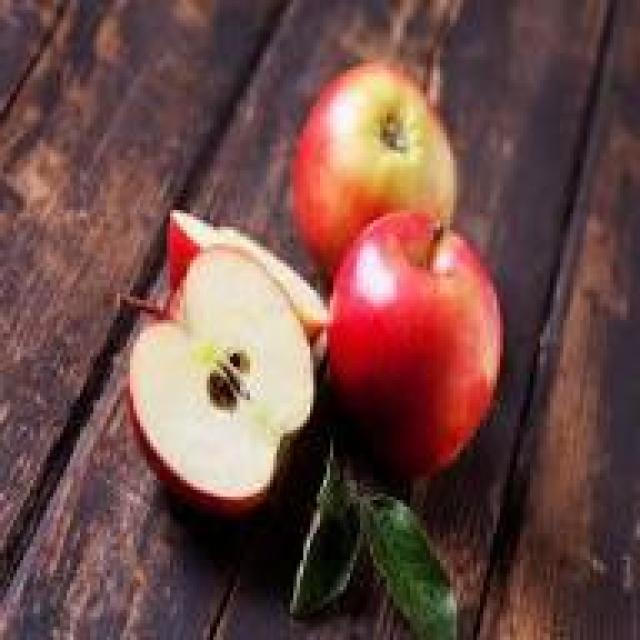apple: (103, 257, 317, 520), (326, 213, 506, 477), (293, 50, 467, 240)
